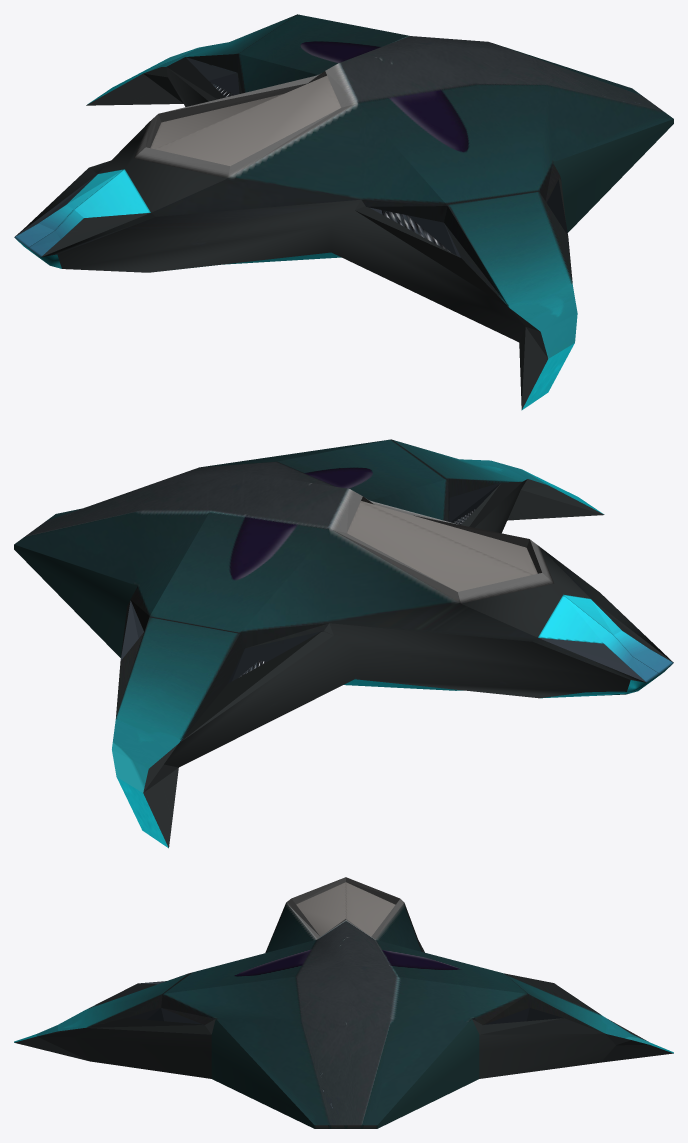
The model's file is SpaceShip2.FBX.
The picture shows the model from 3 angles, top to bottom: view 1: azimuth 30°, elevation 25°; view 2: azimuth 150°, elevation 25°; view 3: azimuth 270°, elevation 25°; orthographic projection. The views are drawn at different scales.
Visible parts, largest first — view 1: Box001; view 2: Box001; view 3: Box001.
Boxes of the visible parts, x1,y1,x2,y2 form: Box001: (14,14,673,410); Box001: (14,439,673,848); Box001: (14,877,673,1128).
Bounding box in the file's own units: 93.31 × 27.4 × 113.
Materials: 1 (1 with a texture image).
